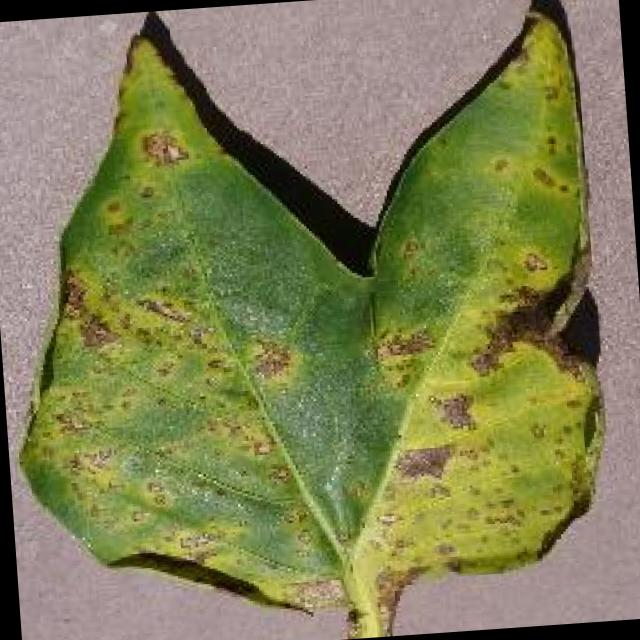Chilli_Bacterial_Spot: (0, 0, 626, 640), (357, 328, 616, 584), (368, 320, 438, 370), (388, 438, 456, 486), (240, 330, 296, 386), (424, 384, 480, 438), (136, 124, 192, 172), (94, 192, 136, 240), (524, 160, 566, 198), (515, 246, 550, 278), (484, 148, 513, 178)
